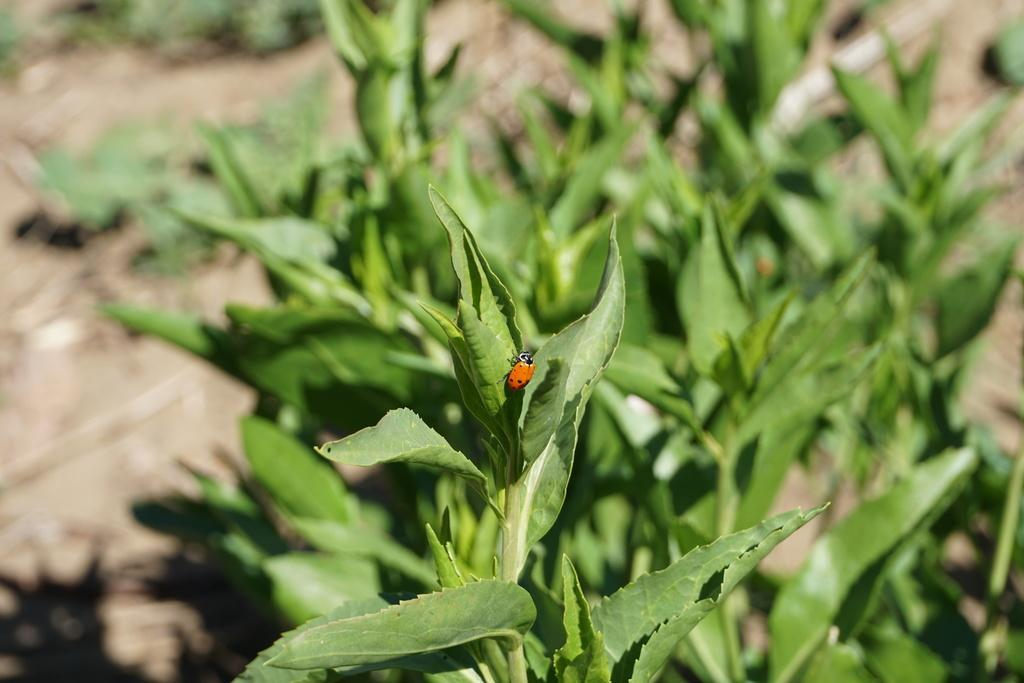ladybug: (496, 349, 538, 393)
